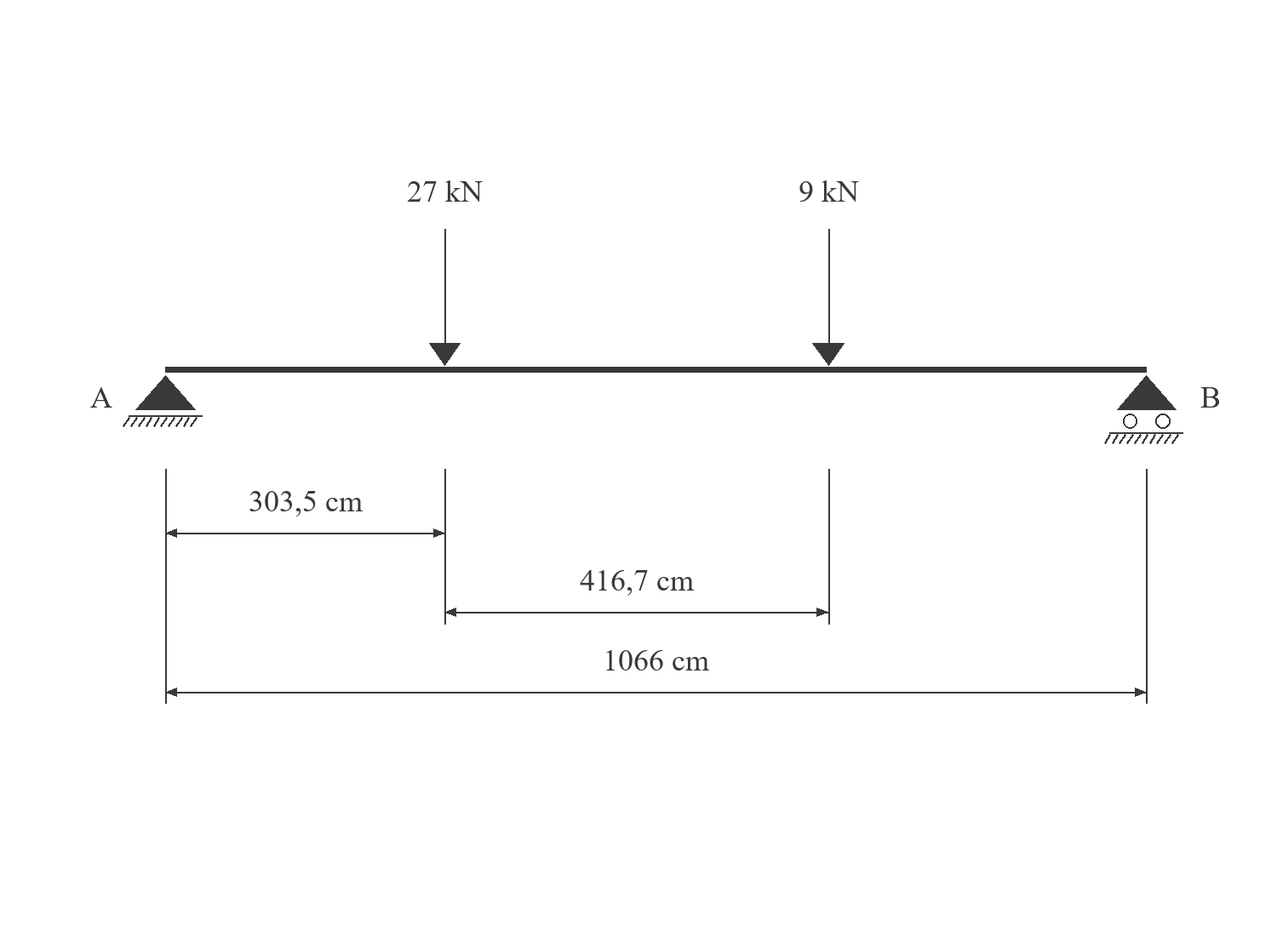pin_support: (123, 375, 203, 427)
point_load: (812, 229, 845, 366), (429, 229, 461, 366)
roller_support: (1104, 375, 1183, 444)
